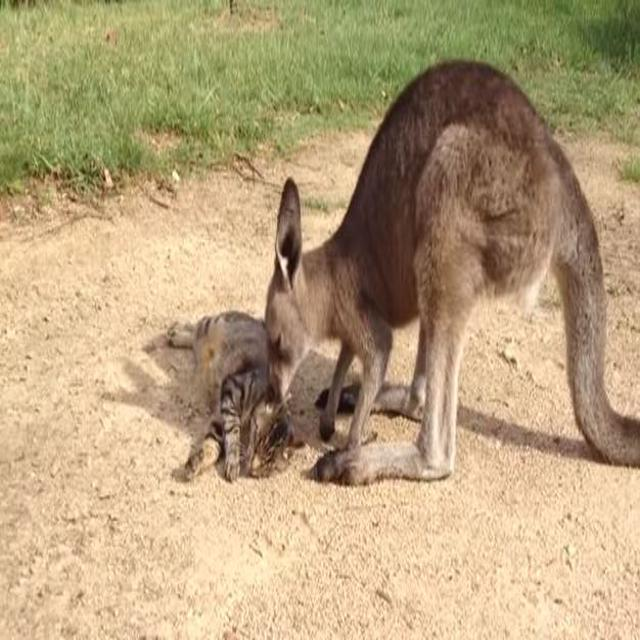kangaroo: (268, 52, 558, 397)
